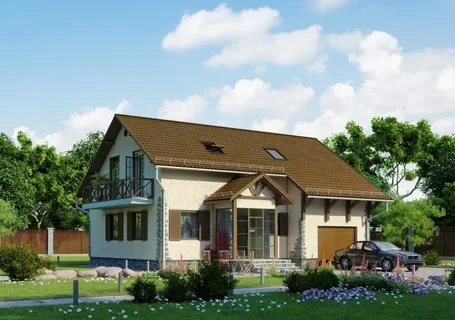private_hause: (87, 126, 376, 263)
